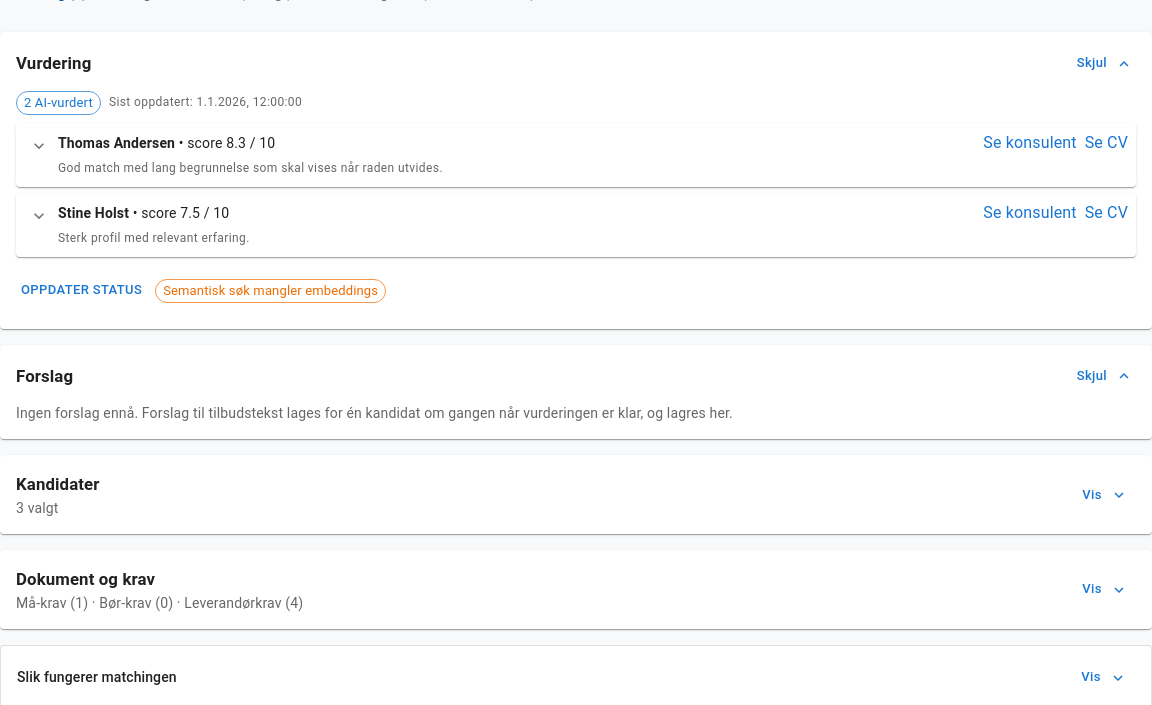
RequestMatchPanel › counts the consultant's requirements alike everywhere, and lists the supplier's apart
(page scrolled)
Expected: the text "Må-krav (1) · Bør-krav (0) · Leverandørkrav (4)" is shown, [16, 593, 303, 613]
Click the 2nd button "Vis". click: click(1104, 590)
box: [1072, 574, 1136, 605]
(page scrolled)
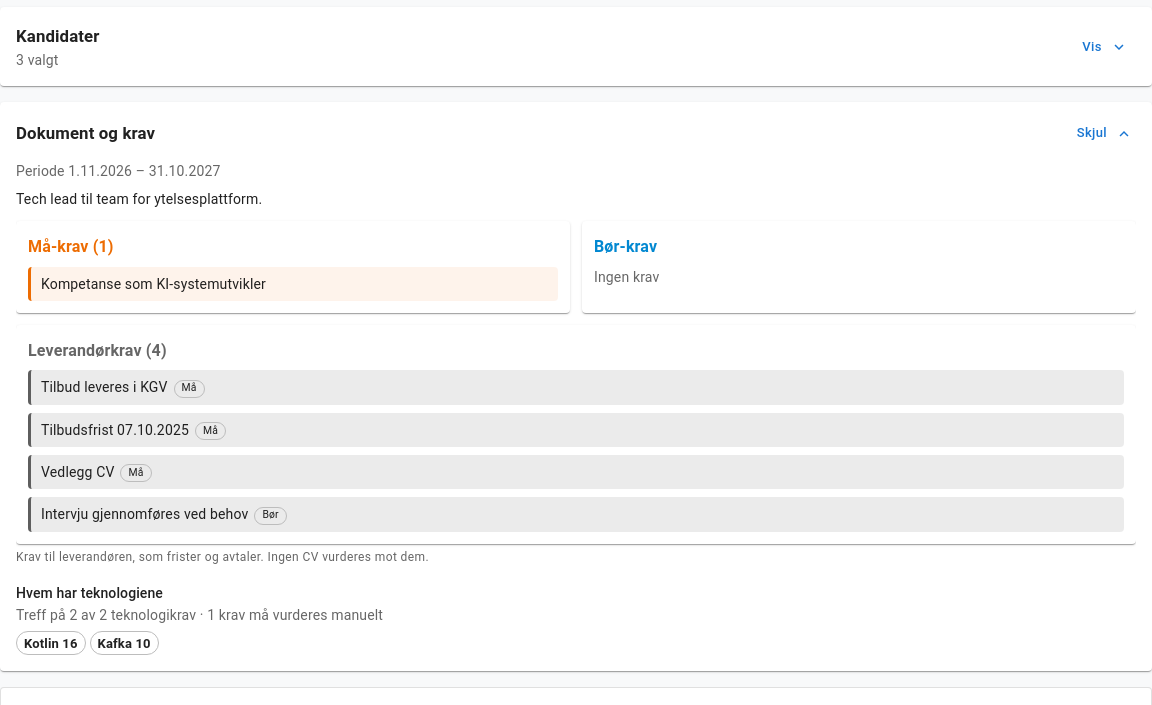
Expected: the heading "Må-krav (1)" is shown, [28, 237, 114, 256]
Result: the text "Bør" is shown once at [262, 508, 279, 521]
